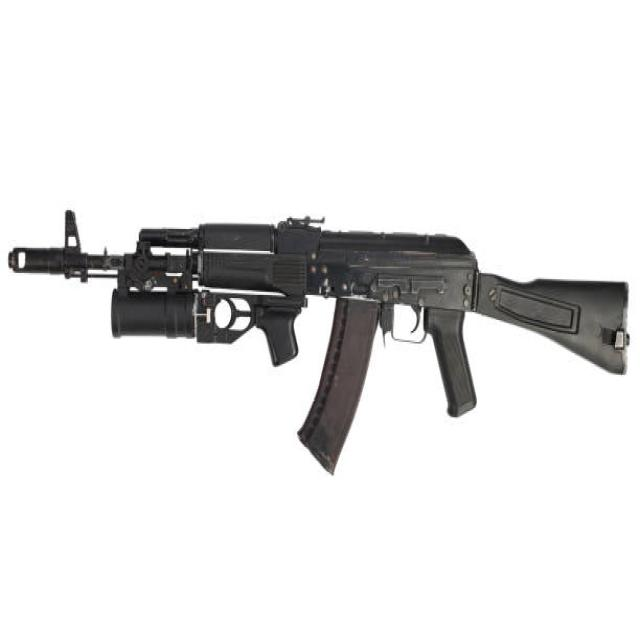rifle: (5, 201, 632, 477)
